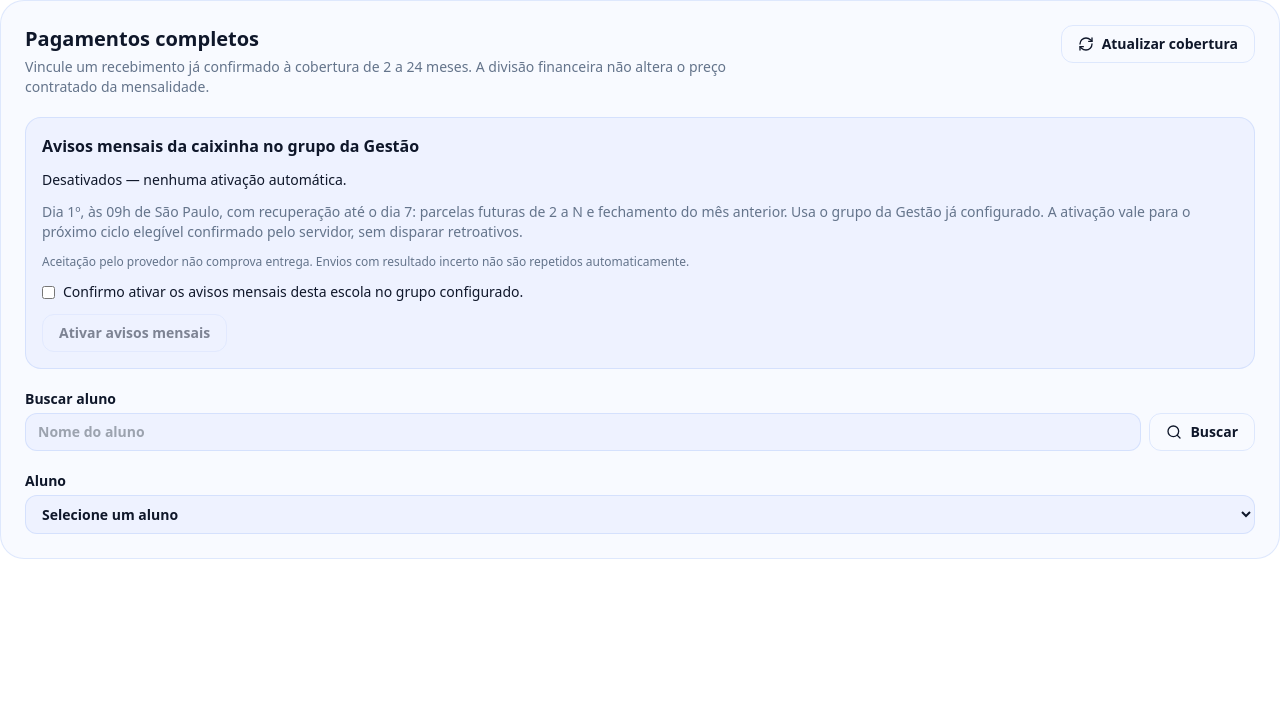
Test: pagamentos completos na direção › preserva ciclos cancelados e cancela apenas o ciclo atual apresentado
Select "Aluna A" in the dropdown labelled "Aluno" at (640, 514), box [25, 495, 1255, 534]
(page scrolled)
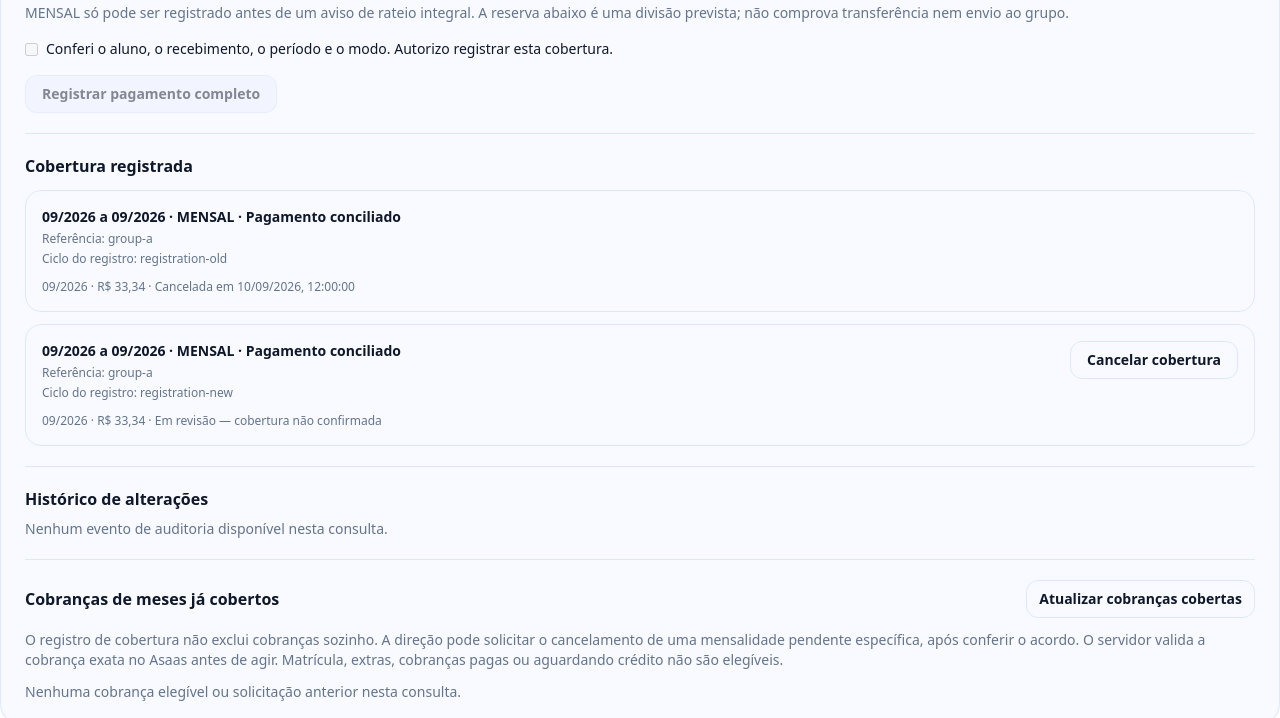
expect the list item "09/2026 · R$ 33,34 · Em revisão — cobertura não confirmada" is shown: met, box [42, 412, 382, 429]
Click the button "Cancelar cobertura" at (1154, 360), box [1070, 341, 1238, 379]
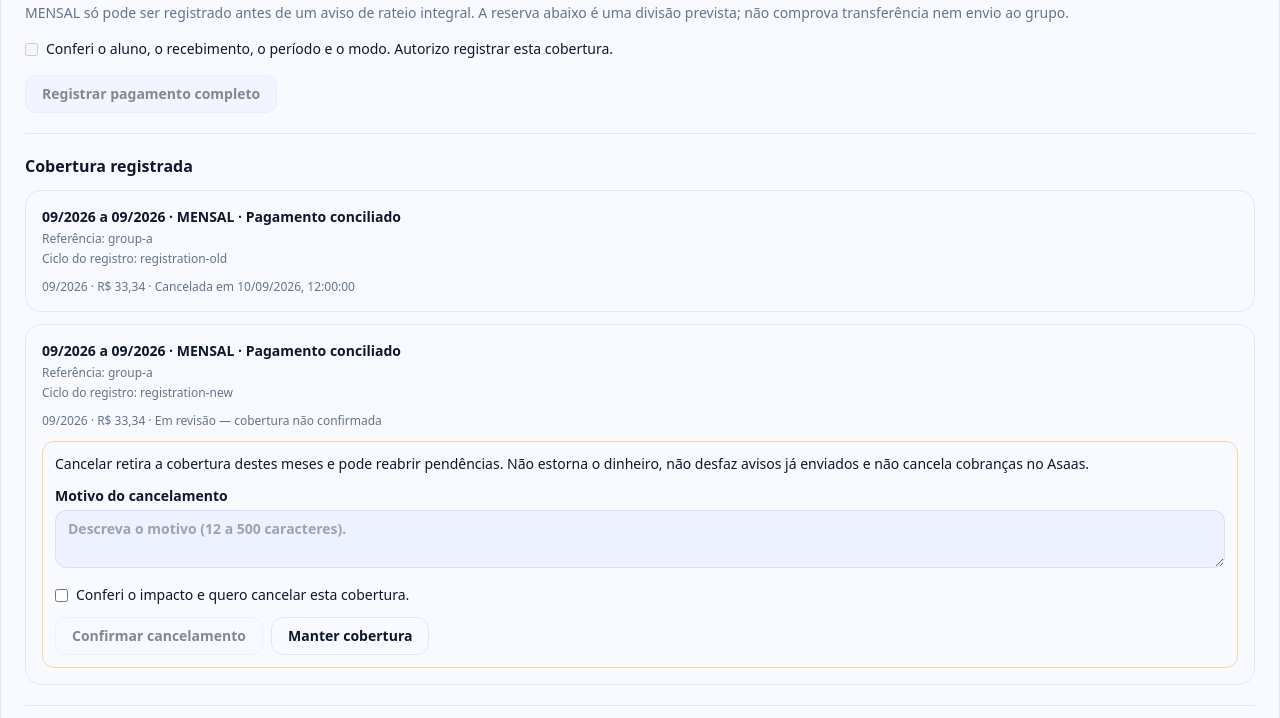
Type "Revisão concluída pela direção" into the text box labelled "Motivo do cancelamento" at (640, 539), box [55, 510, 1225, 568]
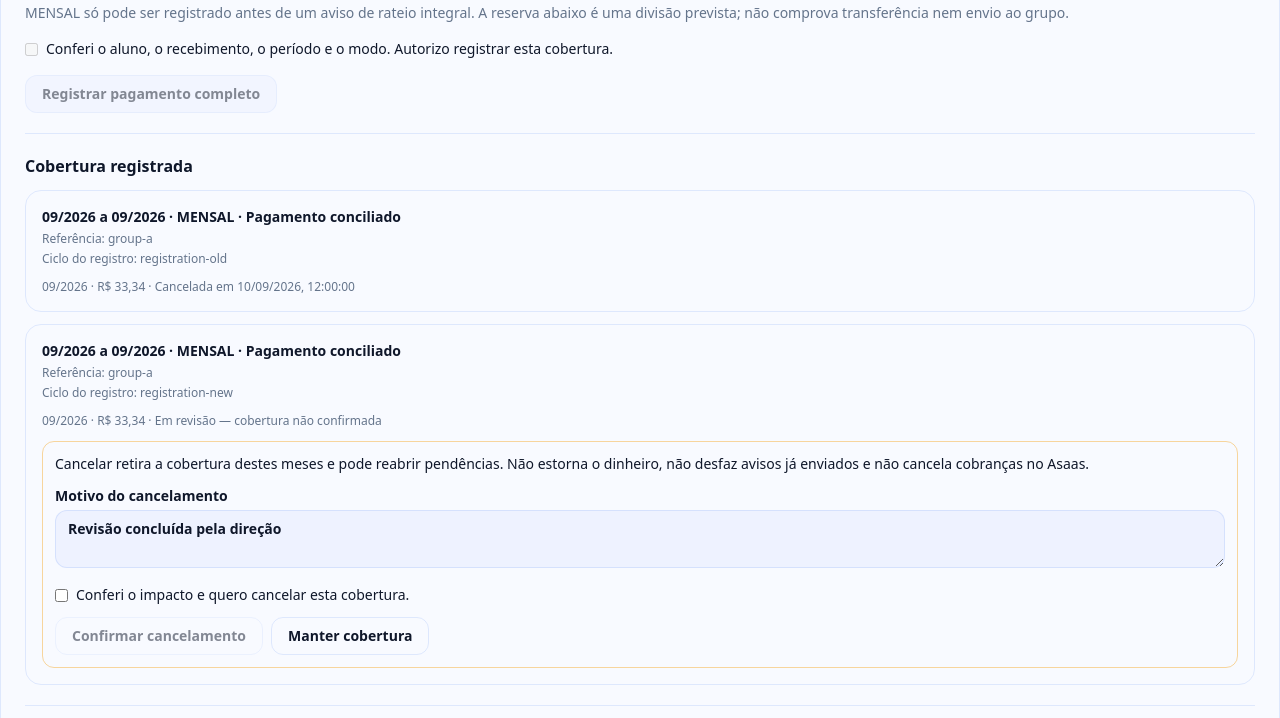
Click the checkbox labelled "Conferi o impacto e quero cancelar esta cobertura." at (62, 596), box [55, 589, 68, 602]
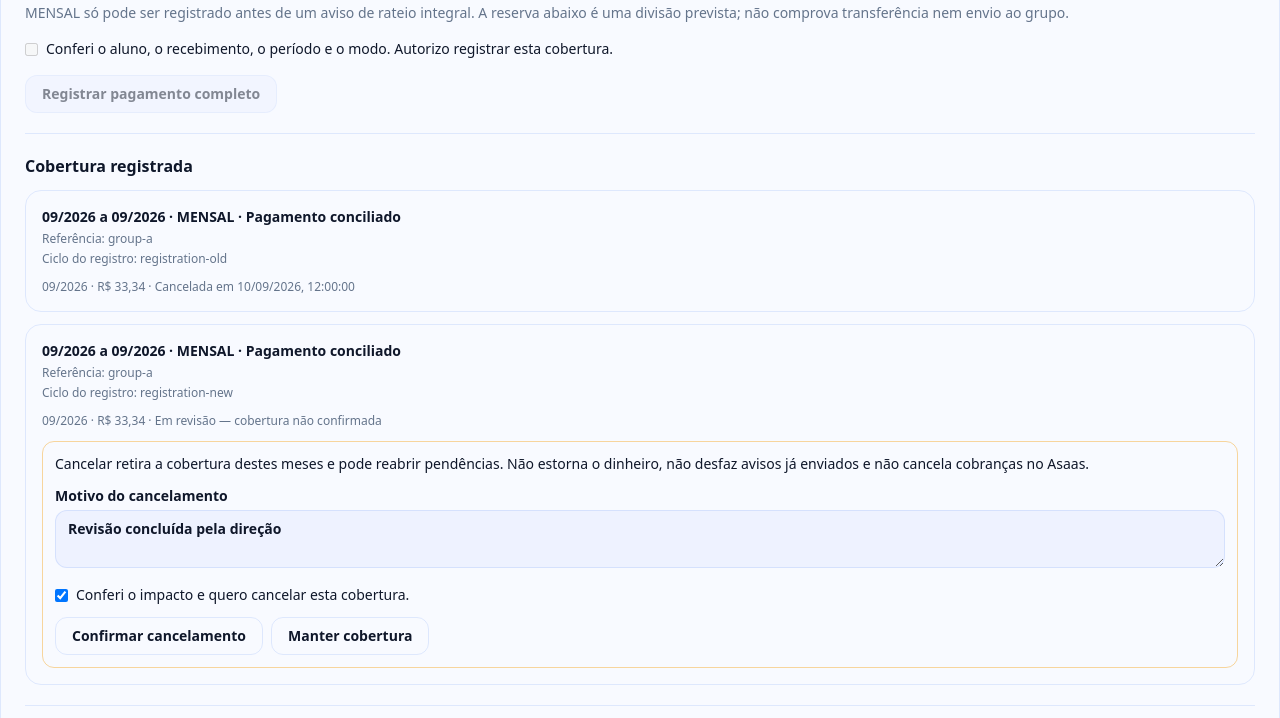
Click the button "Confirmar cancelamento" at (159, 636), box [55, 617, 263, 655]
(page scrolled)
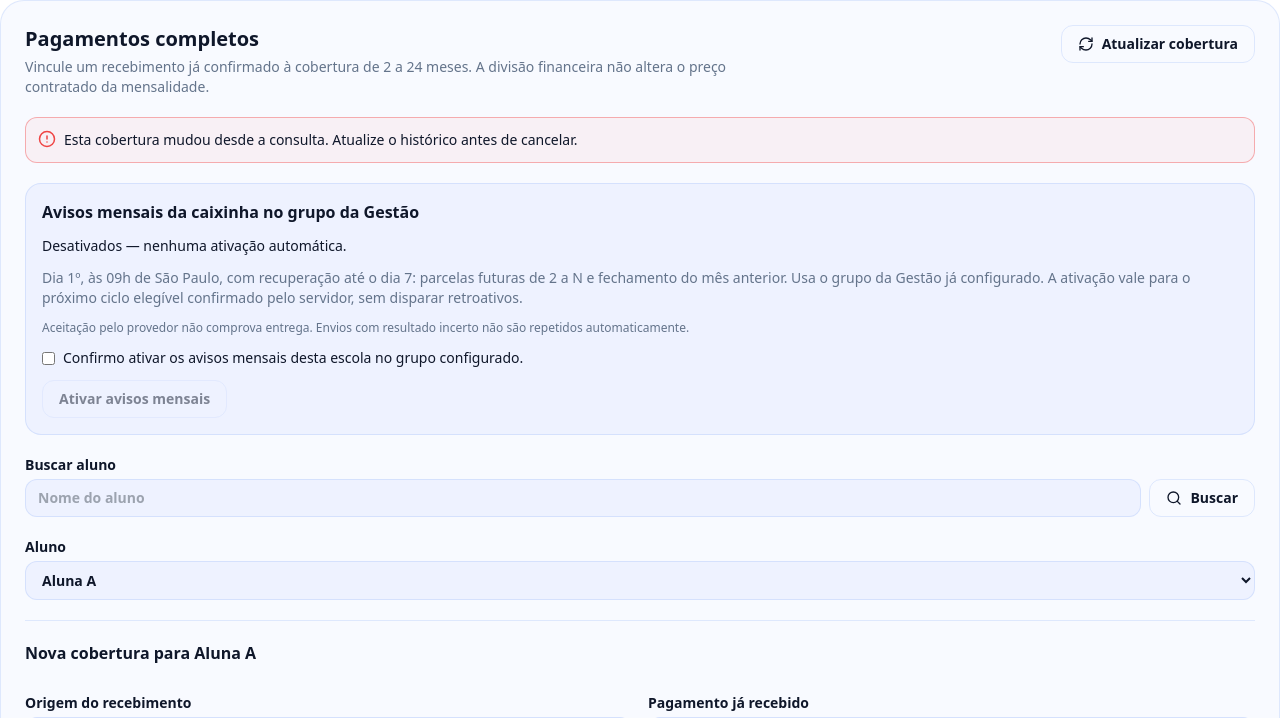
expect the message shows "Esta cobertura mudou desde a consulta": met, box [64, 130, 578, 149]
